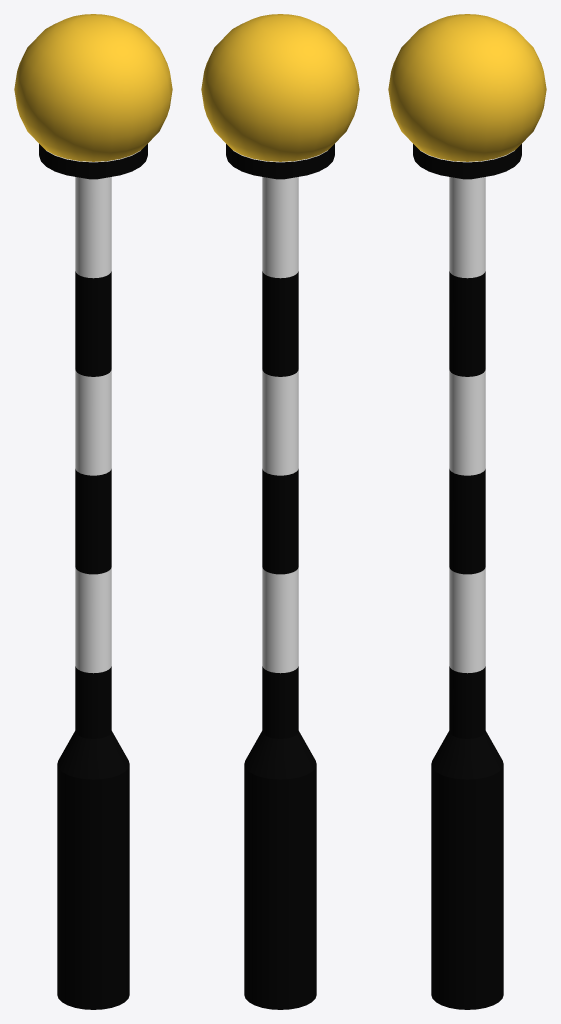
The model's file is beacon.dae.
3 views of the same model, side by side, from view 1: azimuth 30°, elevation 25°; view 2: azimuth 150°, elevation 25°; view 3: azimuth 270°, elevation 25° (orthographic).
Parts seen in each view (by area): view 1: BelishaBeacon (×8); view 2: BelishaBeacon (×8); view 3: BelishaBeacon (×8).
Part boxes in pixels (box(x1,y1,x2,y2)): BelishaBeacon (×8): box(14, 14, 172, 1009); BelishaBeacon (×8): box(201, 14, 359, 1009); BelishaBeacon (×8): box(388, 14, 546, 1009).
Size of the model in its own units: 17.17 by 17.17 by 116.
